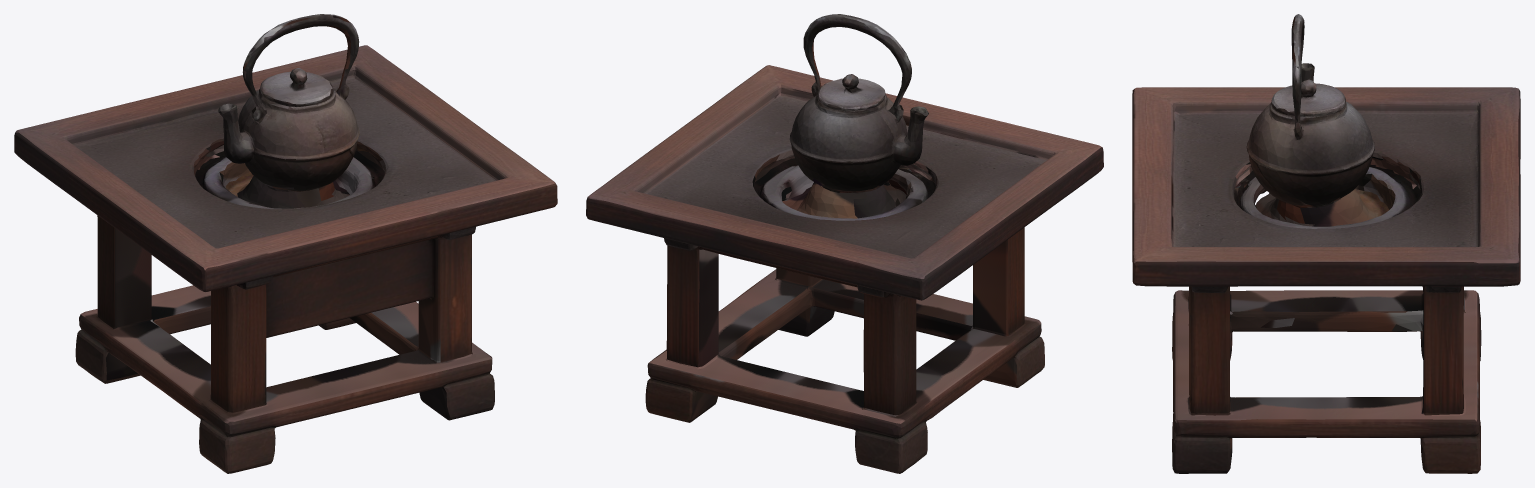
The model's file is traveler_env_coast_autumn_welcome_irori_00001_.glb.
3 views of the same model, side by side, from view 1: azimuth 30°, elevation 25°; view 2: azimuth 150°, elevation 25°; view 3: azimuth 270°, elevation 25° (orthographic). The views are drawn at different scales.
Visible parts, largest first — view 1: temp_mesh.ply; view 2: temp_mesh.ply; view 3: temp_mesh.ply.
Part boxes in pixels (x1,y1,x2,y2): temp_mesh.ply: (14, 14, 557, 473); temp_mesh.ply: (586, 14, 1103, 473); temp_mesh.ply: (1132, 14, 1520, 473).
Size of the model in its own units: 1.93 by 1.97 by 1.8.
Materials: 1 (1 with a texture image).
